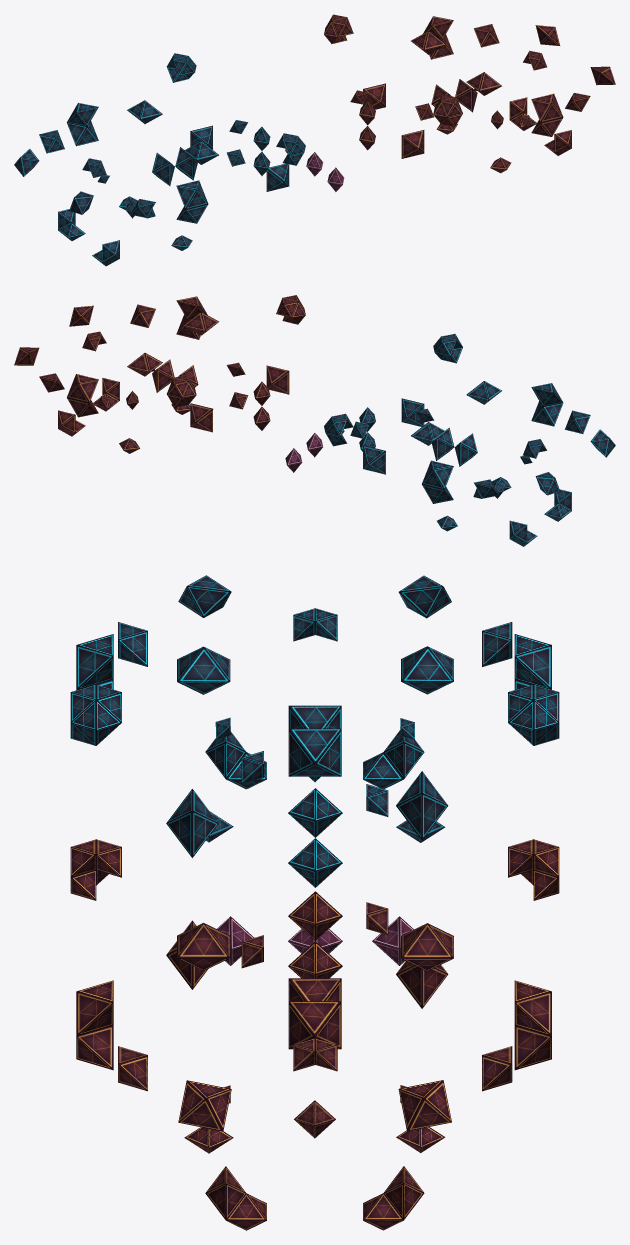
The model's file is remesh_blocks_textured.fbx.
The picture shows the model from 3 angles, top to bottom: view 1: azimuth 30°, elevation 25°; view 2: azimuth 150°, elevation 25°; view 3: azimuth 270°, elevation 25°; orthographic projection. The views are drawn at different scales.
Visible parts, largest first — view 1: blocks_combined_textured; view 2: blocks_combined_textured; view 3: blocks_combined_textured.
Boxes of the visible parts, <box> form: blocks_combined_textured: <box>14,14,615,266</box>; blocks_combined_textured: <box>14,295,615,546</box>; blocks_combined_textured: <box>70,575,559,1230</box>.
Size of the model in its own units: 6669 by 1427 by 2627.
3 materials, 3 textured.
